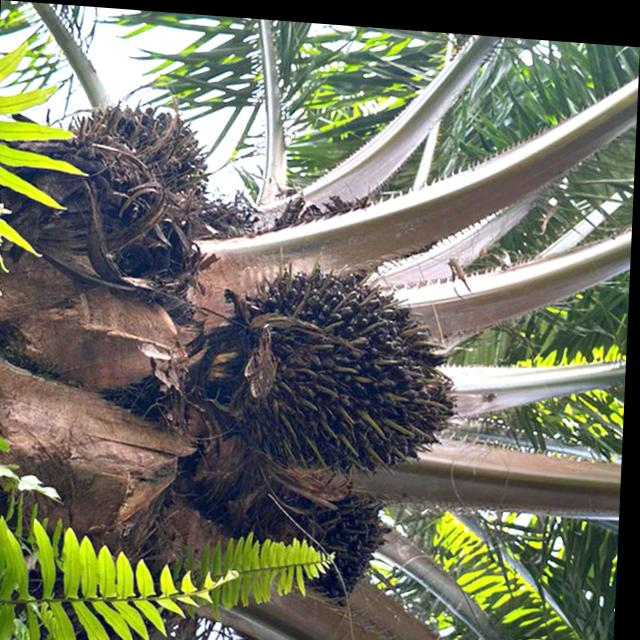almost: (231, 256, 472, 476), (55, 94, 225, 244), (241, 470, 391, 600)
